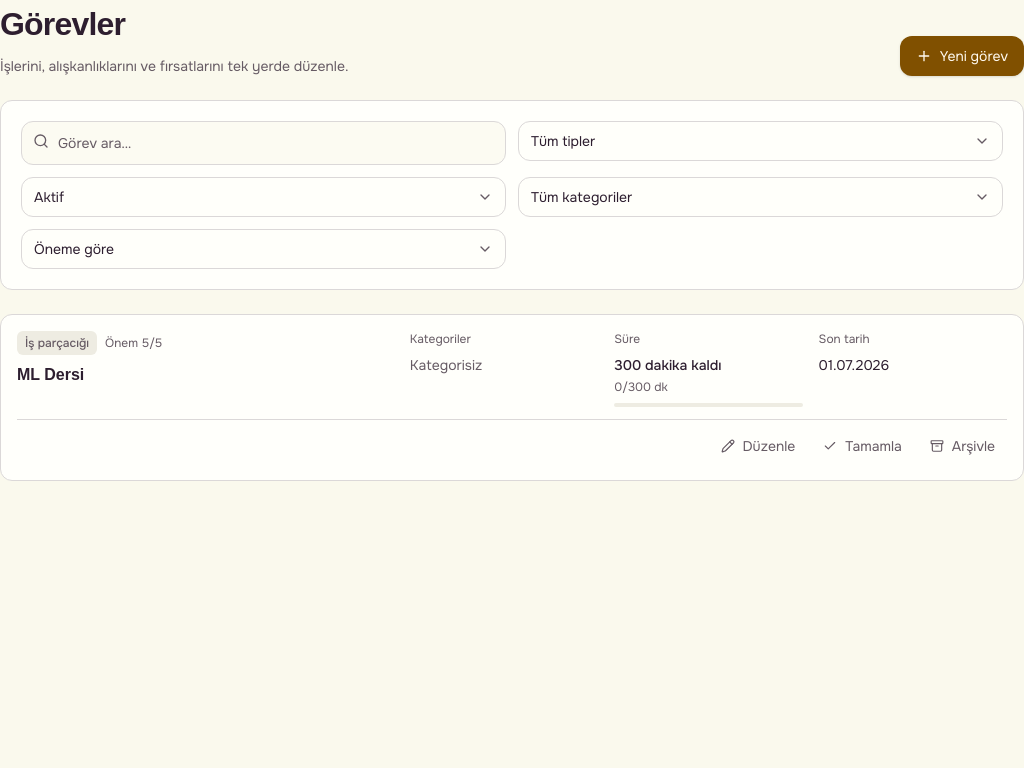
Test: tasks page › opens the reusable task dialog
Click the button "Yeni görev" at (962, 56), box left=900, top=36, right=1023, bottom=76
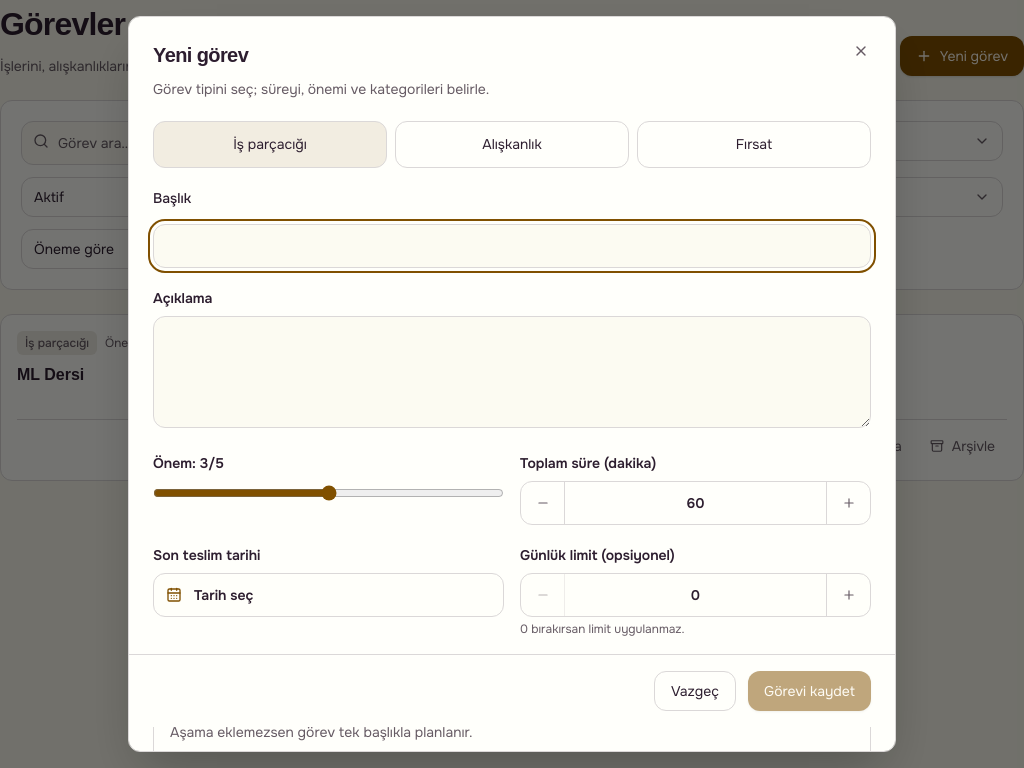
Check: the dialog "Yeni görev" is shown
Check: the element named "Görev tipi" is shown, box left=153, top=121, right=871, bottom=168
